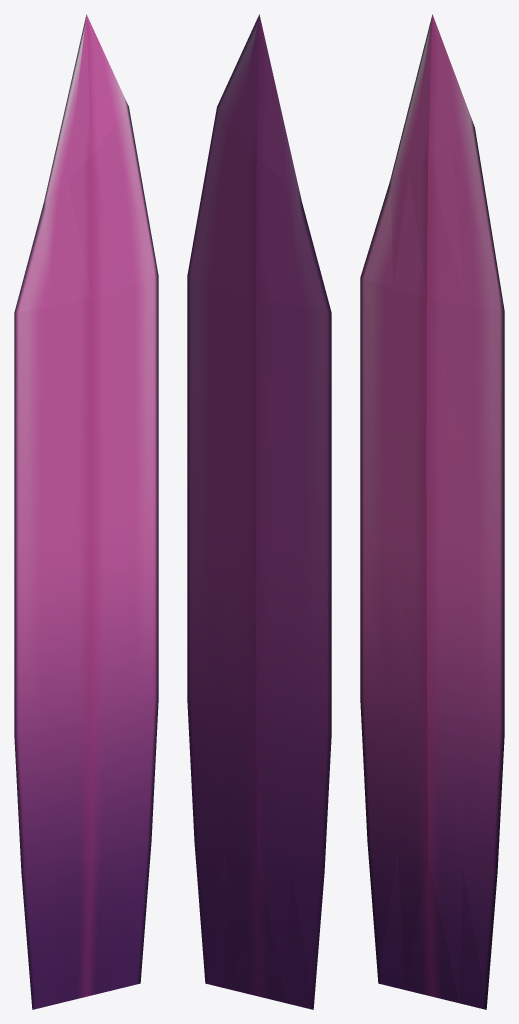
File: senbon_lance_a.fbx
The picture shows the model from 3 angles, left to right: view 1: azimuth 30°, elevation 25°; view 2: azimuth 150°, elevation 25°; view 3: azimuth 330°, elevation 25°; orthographic projection.
Parts seen in each view (by area): view 1: senbon_lance_a; view 2: senbon_lance_a; view 3: senbon_lance_a.
Part boxes in pixels (x1,y1,x2,y2): senbon_lance_a: (14, 14, 158, 1009); senbon_lance_a: (187, 14, 331, 1009); senbon_lance_a: (360, 14, 504, 1009).
Size of the model in its own units: 0.4 by 2.6 by 0.0465.
1 material, 1 textured.
